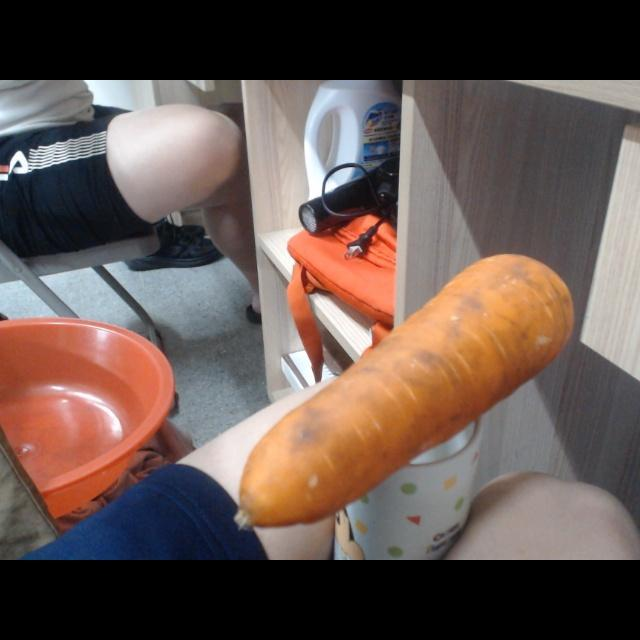carrot: (237, 253, 579, 530)
